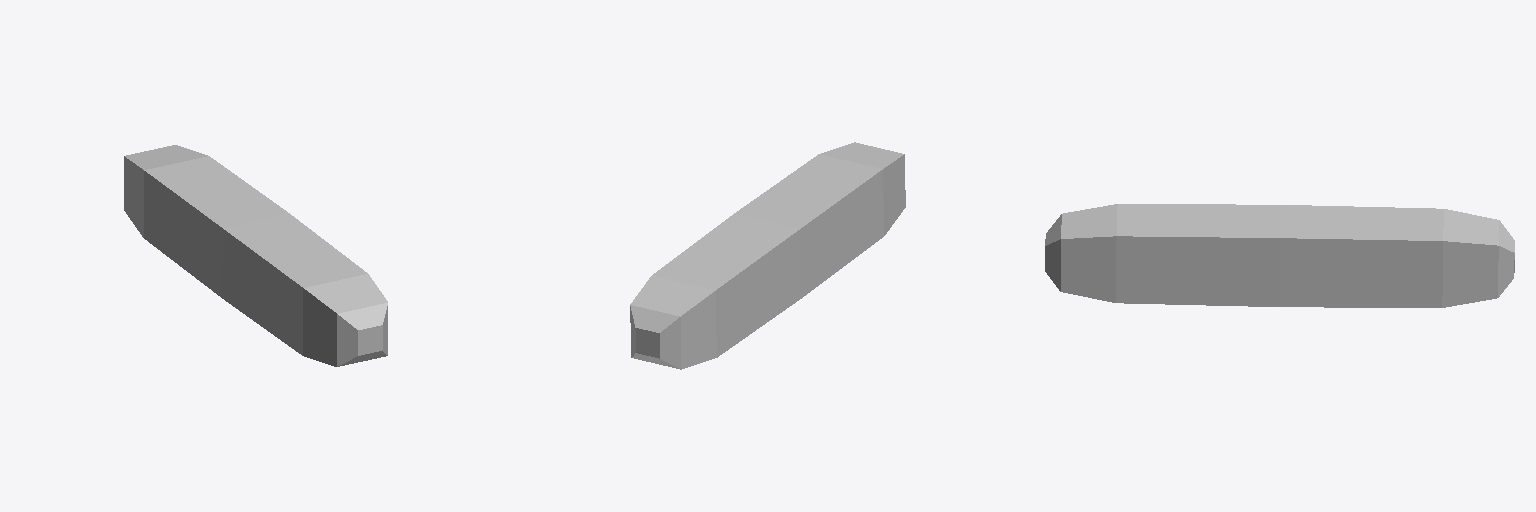
Rendered from lower_right_arm.obj.
3 renders of one model, left to right at view 1: azimuth 30°, elevation 25°; view 2: azimuth 150°, elevation 25°; view 3: azimuth 270°, elevation 25°, orthographic.
Visible parts, largest first — view 1: ../rami/model/lower_right_arm; view 2: ../rami/model/lower_right_arm; view 3: ../rami/model/lower_right_arm.
Boxes of the visible parts, box(x1,y1,x2,y2) form: ../rami/model/lower_right_arm: box(124, 145, 387, 366); ../rami/model/lower_right_arm: box(630, 142, 905, 369); ../rami/model/lower_right_arm: box(1045, 204, 1514, 307).
Size of the model in its own units: 0.0556 by 0.0545 by 0.3258.